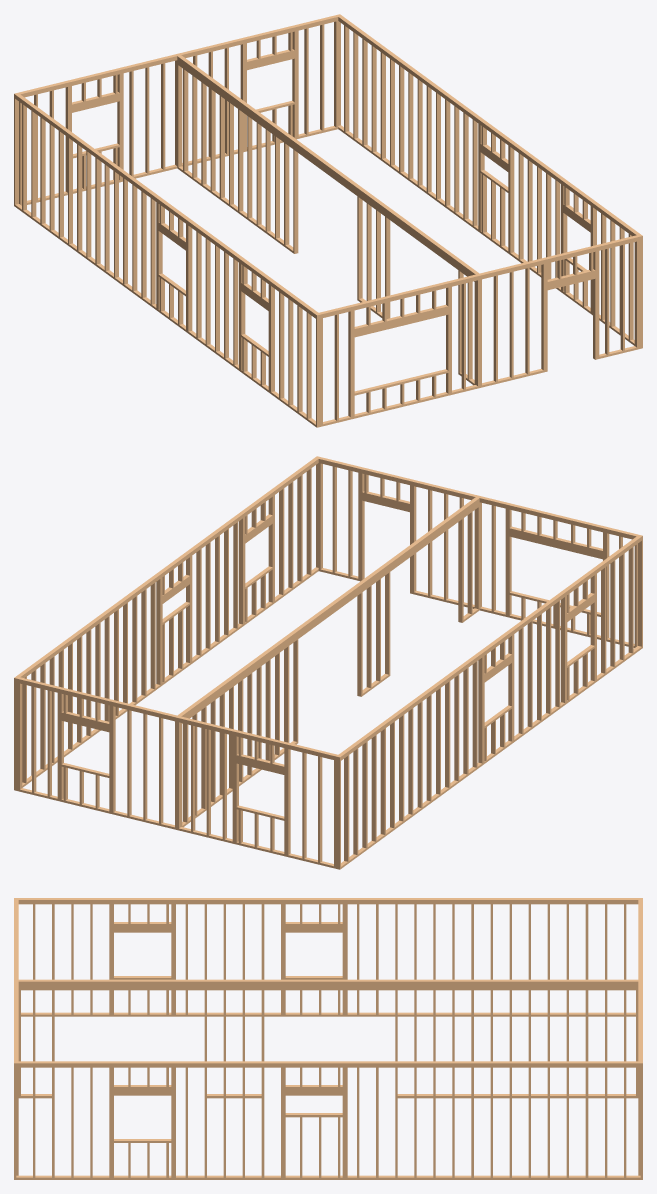
The model's file is Structural Wood WallsDone.dae.
The picture shows the model from 3 angles, top to bottom: view 1: azimuth 30°, elevation 25°; view 2: azimuth 150°, elevation 25°; view 3: azimuth 270°, elevation 25°; orthographic projection. The views are drawn at different scales.
Parts seen in each view (by area): view 1: group_1 (×20), group_30 (×18), group_58 (×14), group_44 (×5), group_3, group_32, group_60, group_2, group_48, group_19, group_15 (×2), group_31 (+10 smaller); view 2: group_1 (×25), group_30 (×16), group_58 (×8), group_15 (×5), group_44 (×3), group_3, group_32, group_60, group_2, group_19, group_48, group_16 (+9 smaller); view 3: group_30 (×6), group_32, group_60, group_3, group_2, group_31, group_1 (×4), group_33, group_4, group_62, group_63, group_61 (+4 smaller).
Boxes of the visible parts, bbox=[...] form: group_1 (×20): bbox=[31, 111, 311, 418]; group_30 (×18): bbox=[344, 25, 633, 340]; group_58 (×14): bbox=[177, 64, 472, 379]; group_44 (×5): bbox=[348, 251, 599, 417]; group_3: bbox=[14, 93, 320, 317]; group_32: bbox=[336, 14, 642, 238]; group_60: bbox=[176, 53, 481, 277]; group_2: bbox=[14, 204, 320, 427]; group_48: bbox=[319, 235, 638, 316]; group_19: bbox=[18, 15, 338, 95]; group_15 (×2): bbox=[117, 30, 298, 180]; group_31: bbox=[338, 125, 642, 348]; group_1 (×25): bbox=[344, 547, 633, 861]; group_30 (×16): bbox=[40, 468, 311, 769]; group_58 (×8): bbox=[183, 506, 479, 822]; group_15 (×5): bbox=[57, 693, 290, 854]; group_44 (×3): bbox=[358, 472, 511, 615]; group_3: bbox=[336, 535, 642, 759]; group_32: bbox=[14, 456, 320, 680]; group_60: bbox=[175, 495, 481, 720]; group_2: bbox=[336, 646, 642, 869]; group_19: bbox=[18, 677, 337, 758]; group_48: bbox=[318, 457, 638, 537]; group_16: bbox=[18, 788, 335, 868]; group_30 (×6): bbox=[109, 1067, 588, 1177]; group_32: bbox=[14, 1061, 642, 1065]; group_60: bbox=[14, 979, 642, 983]; group_3: bbox=[14, 898, 642, 902]; group_2: bbox=[21, 1012, 635, 1016]; group_31: bbox=[14, 1175, 642, 1179]; group_1 (×4): bbox=[109, 904, 347, 1014]; group_33: bbox=[14, 1065, 642, 1067]; group_4: bbox=[18, 902, 638, 904]; group_62: bbox=[18, 986, 638, 988]; group_63: bbox=[18, 988, 638, 990]; group_61: bbox=[18, 984, 638, 985].
Bounding box in the file's own units: 323 × 520 × 106.
